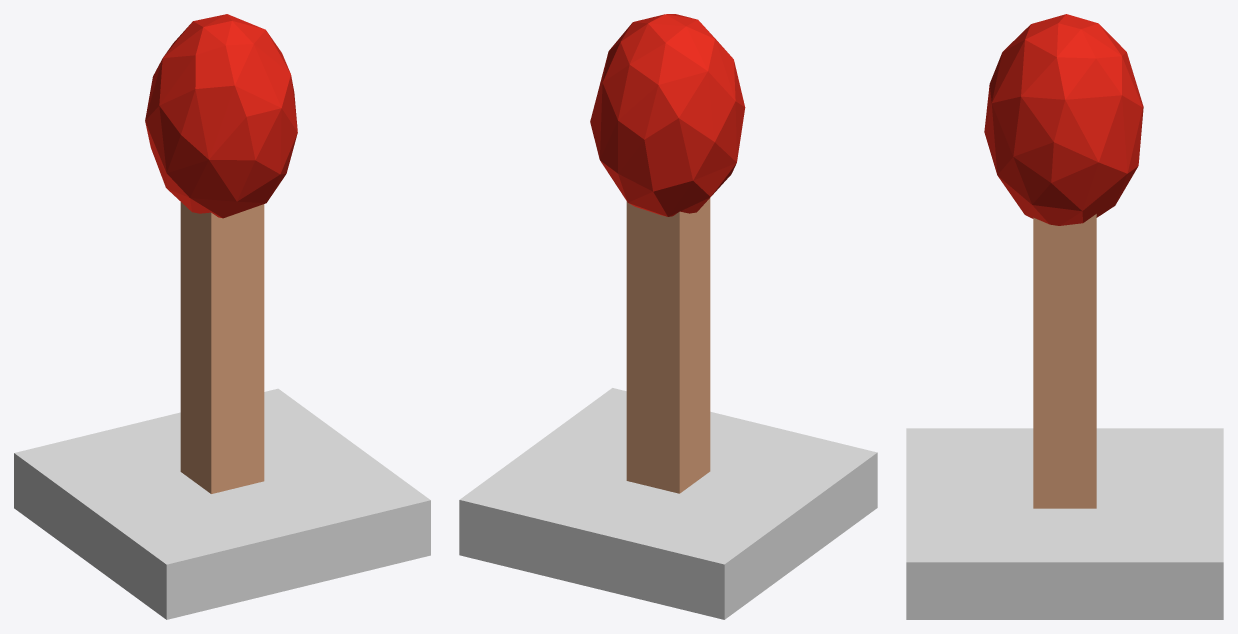
File: matti.fbx
3 renders of one model, left to right at view 1: azimuth 30°, elevation 25°; view 2: azimuth 150°, elevation 25°; view 3: azimuth 270°, elevation 25°, orthographic. The views are drawn at different scales.
Visible parts, largest first — view 1: 立方体, 球, 立方体.001; view 2: 立方体, 球, 立方体.001; view 3: 立方体, 球, 立方体.001.
Boxes of the visible parts, x1,y1,x2,y2 form: 立方体: [14, 388, 430, 619]; 球: [145, 14, 297, 218]; 立方体.001: [180, 202, 264, 493]; 立方体: [459, 388, 877, 619]; 球: [590, 14, 745, 216]; 立方体.001: [626, 198, 710, 493]; 立方体: [906, 428, 1223, 619]; 球: [984, 14, 1143, 225]; 立方体.001: [1033, 214, 1096, 508].
Bounding box in the file's own units: 1000 × 1851 × 1000.
